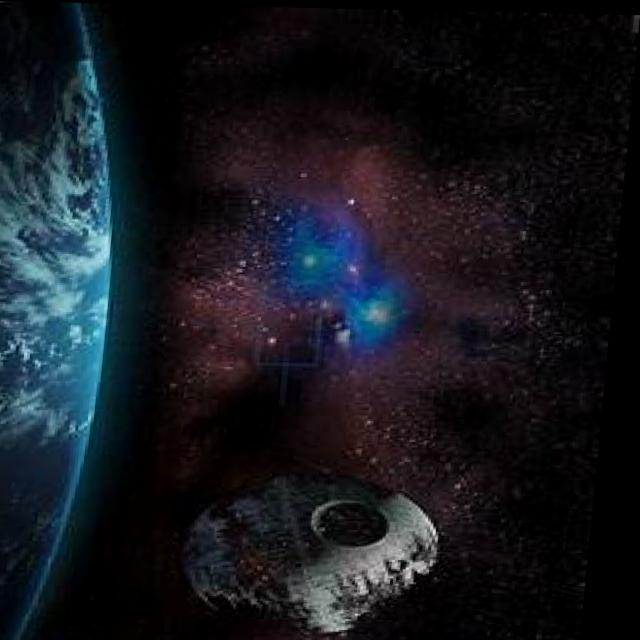deathStar: (178, 464, 459, 640)
